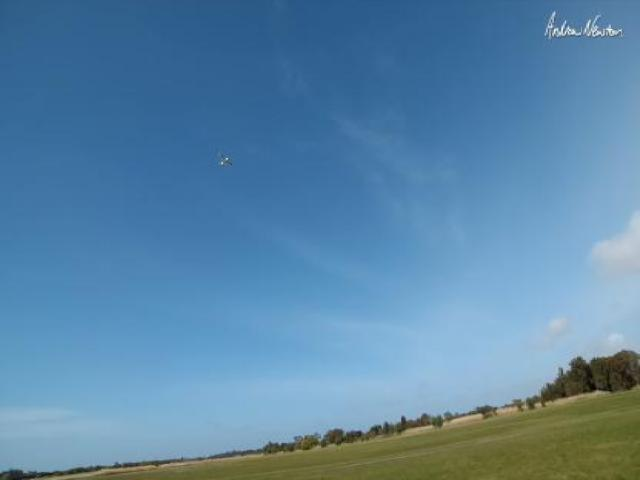uav: (213, 149, 235, 172)
